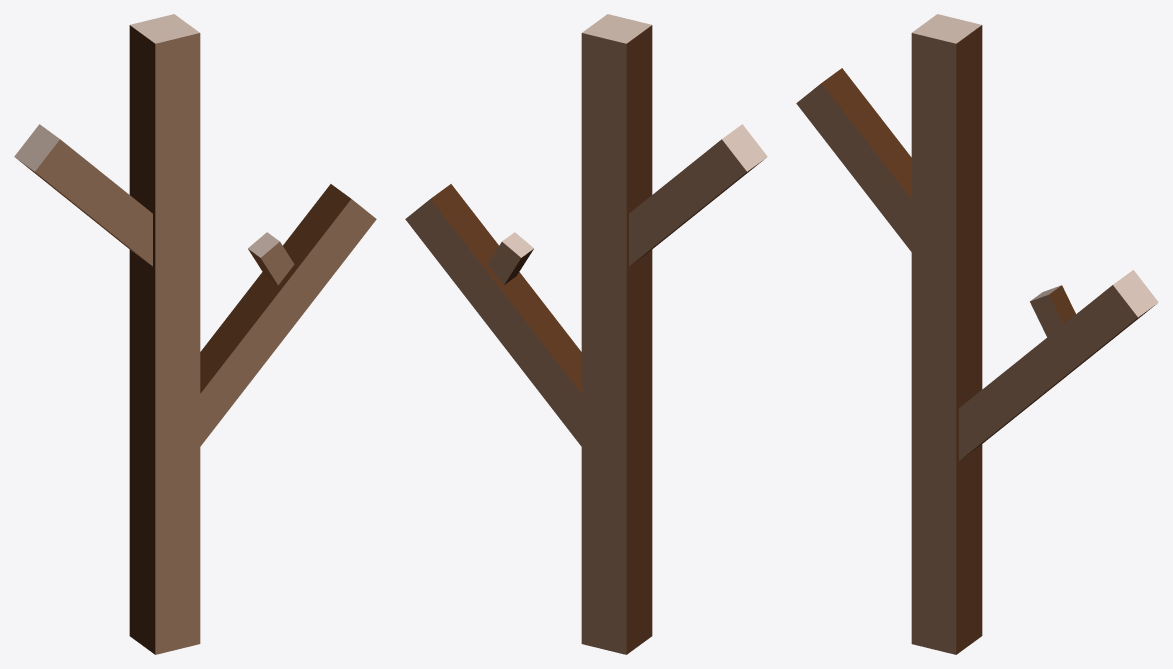
Rendered from iceTree.fbx.
3 views of the same model, side by side, from view 1: azimuth 30°, elevation 25°; view 2: azimuth 150°, elevation 25°; view 3: azimuth 330°, elevation 25° (orthographic).
Parts seen in each view (by area): view 1: iceTree_branch, iceTree_branch2, iceTree_branch1, iceTree_branch3; view 2: iceTree_branch, iceTree_branch2, iceTree_branch1, iceTree_branch3; view 3: iceTree_branch, iceTree_branch2, iceTree_branch1, iceTree_branch3.
Boxes of the visible parts, x1,y1,x2,y2 form: iceTree_branch: [129, 14, 200, 654]; iceTree_branch2: [200, 184, 376, 446]; iceTree_branch1: [14, 124, 152, 266]; iceTree_branch3: [248, 232, 294, 285]; iceTree_branch: [581, 14, 652, 654]; iceTree_branch2: [405, 184, 581, 446]; iceTree_branch1: [629, 124, 767, 266]; iceTree_branch3: [487, 232, 533, 285]; iceTree_branch: [911, 14, 982, 654]; iceTree_branch2: [959, 270, 1158, 460]; iceTree_branch1: [796, 68, 911, 251]; iceTree_branch3: [1030, 285, 1075, 337].
Bounding box in the file's own units: 91.85 × 157 × 12.02.
Materials: 1 (1 with a texture image).
